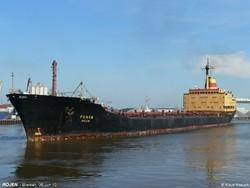Cargoship: (5, 55, 239, 146)
